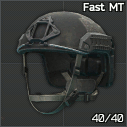Ops-Core FAST MT Super High Cut helmet Black: (0, 0, 127, 127)
